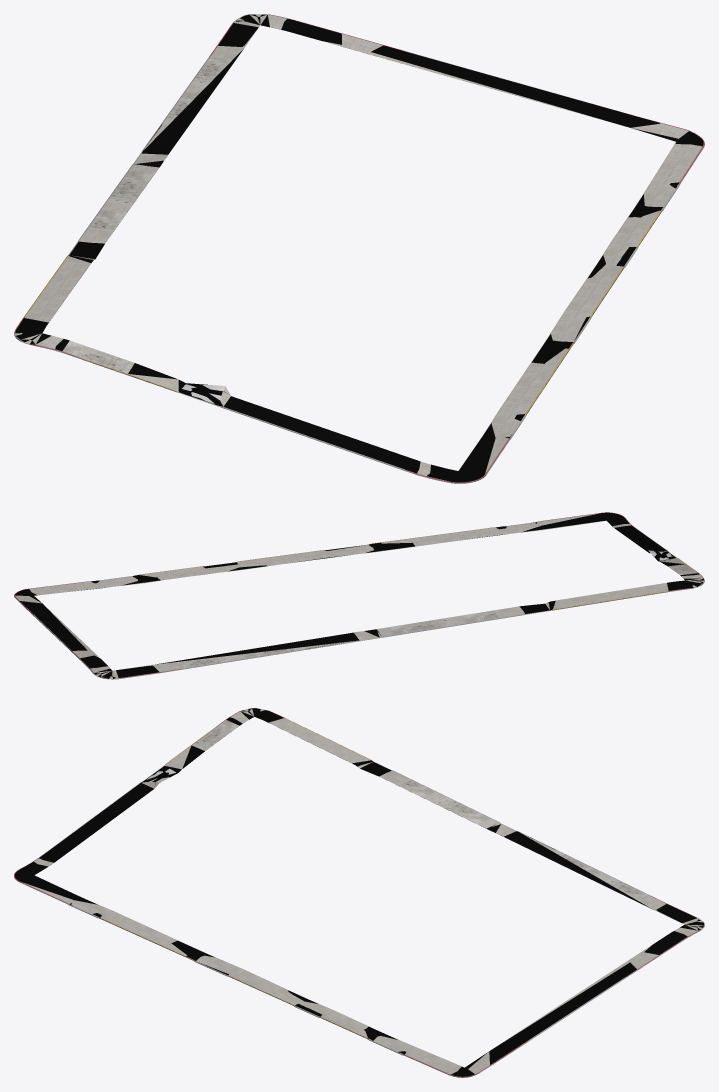
File: sidewalk_diner.dae
3 renders of one model, top to bottom at view 1: azimuth 30°, elevation 25°; view 2: azimuth 150°, elevation 25°; view 3: azimuth 270°, elevation 25°, orthographic. The views are drawn at different scales.
Visible parts, largest first — view 1: sidewalk_diner_a3000, sidewalk_diner_a2000; view 2: sidewalk_diner_a3000, sidewalk_diner_a2000; view 3: sidewalk_diner_a3000, sidewalk_diner_a2000.
Part boxes in pixels (x1=…): sidewalk_diner_a3000: x1=14, y1=14, x2=704, y2=483; sidewalk_diner_a2000: x1=15, y1=14, x2=703, y2=482; sidewalk_diner_a3000: x1=14, y1=512, x2=704, y2=679; sidewalk_diner_a2000: x1=15, y1=512, x2=703, y2=678; sidewalk_diner_a3000: x1=14, y1=708, x2=704, y2=1077; sidewalk_diner_a2000: x1=15, y1=708, x2=703, y2=1076.
Bounding box in the file's own units: 145 × 145 × 18.14.
